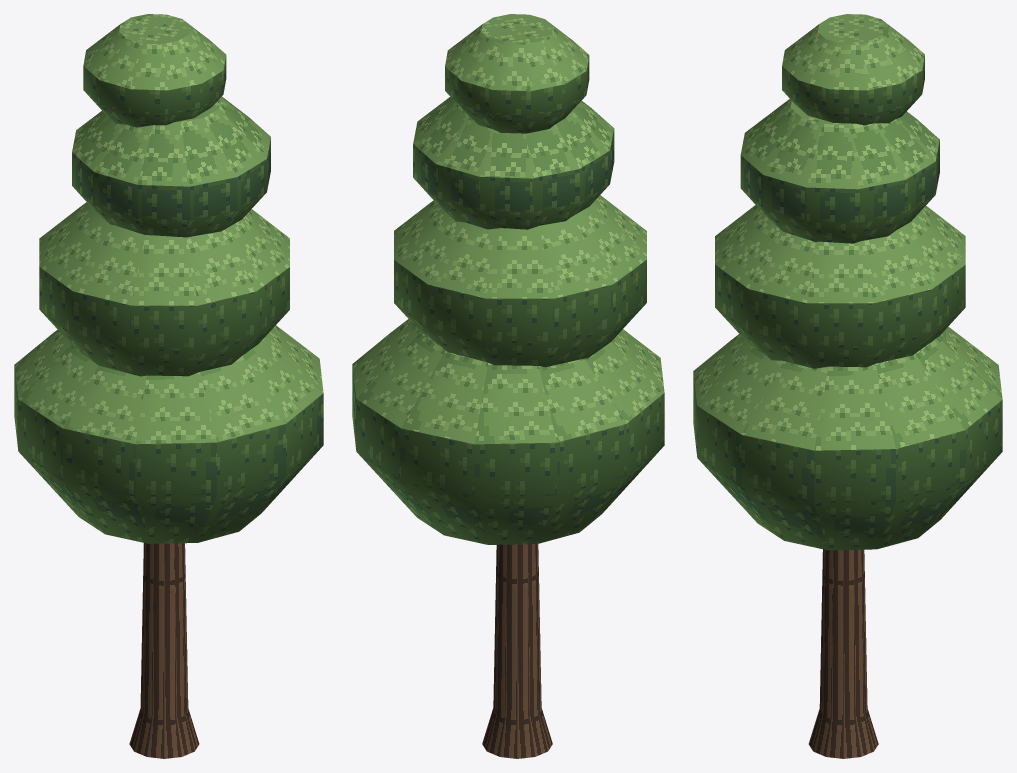
The model's file is poplar_3.glb.
3 renders of one model, left to right at view 1: azimuth 30°, elevation 25°; view 2: azimuth 150°, elevation 25°; view 3: azimuth 270°, elevation 25°, orthographic.
Visible parts, largest first — view 1: poplar_4; view 2: poplar_4; view 3: poplar_4.
Part boxes in pixels (<box>): poplar_4: <box>14,14,323,758</box>; poplar_4: <box>352,14,664,758</box>; poplar_4: <box>693,14,1002,758</box>.
Size of the model in its own units: 1.94 by 4.94 by 1.94.
3 materials, 3 textured.
